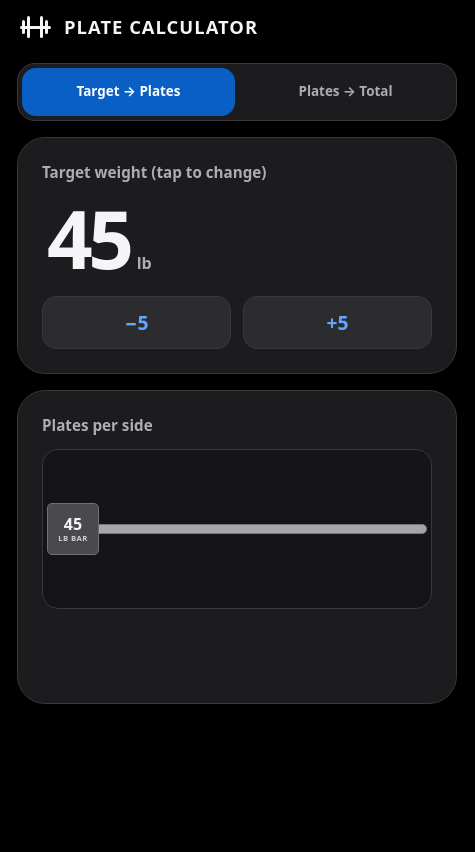
Scenario: Slice 003 application mode integration › S3-AC-009 preserves reverse state through a mode round trip
Click the button with aria-label "Plates → Total Weight" at (346, 92), box [239, 68, 452, 116]
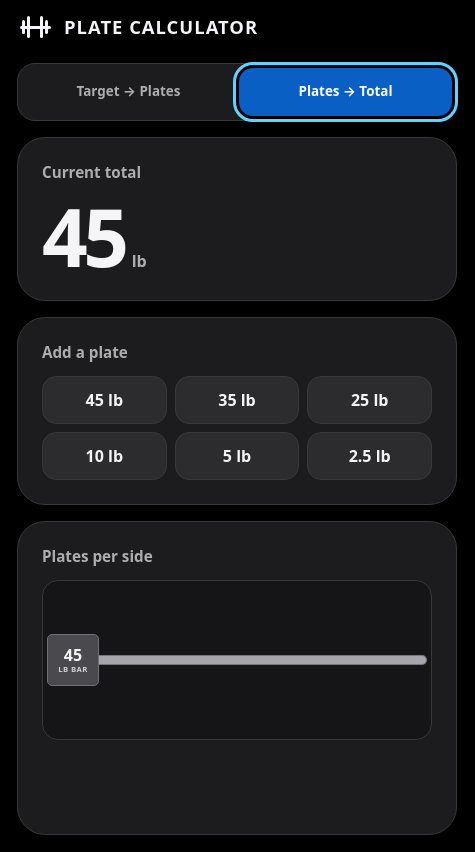
Click the button with aria-label "Add 45 lb plate" at (104, 400), box [42, 376, 167, 424]
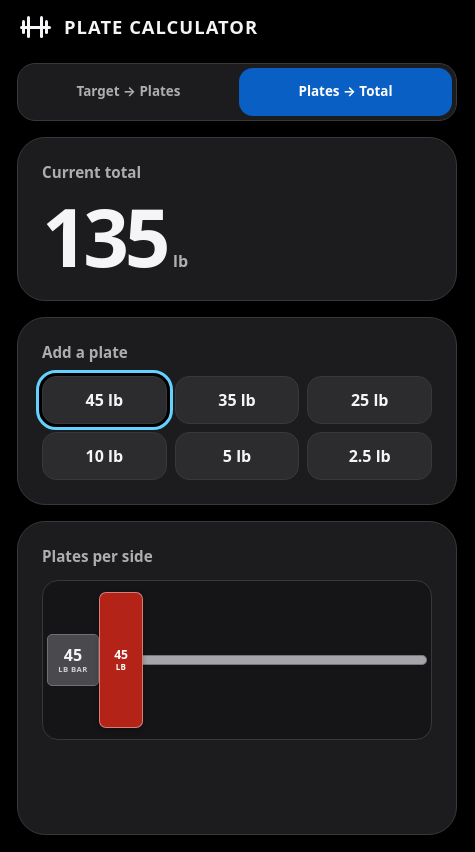
Click the button with aria-label "Add 10 lb plate" at (104, 456), box [42, 432, 167, 480]
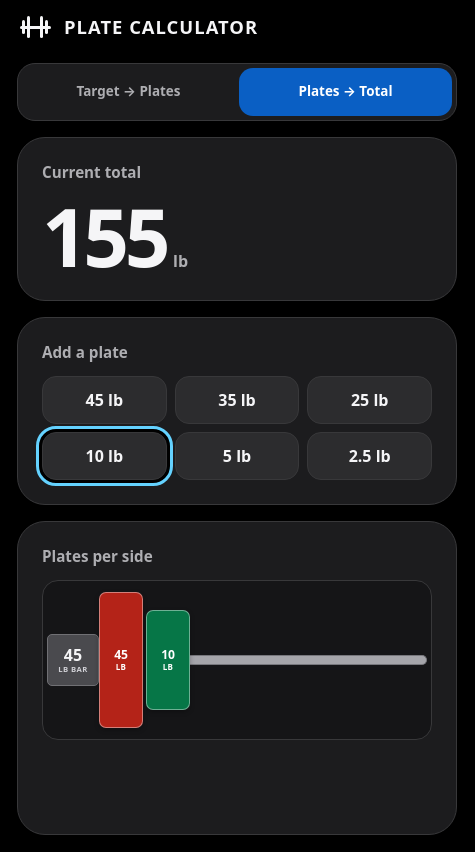
Click the button with aria-label "Target Weight → Plates" at (128, 92), box [22, 68, 235, 116]
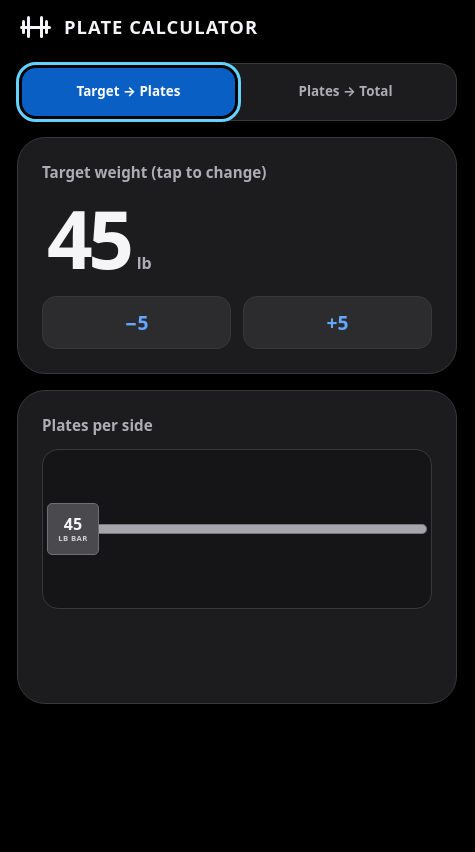
Click the button with aria-label "Plates → Total Weight" at (346, 92), box [239, 68, 452, 116]
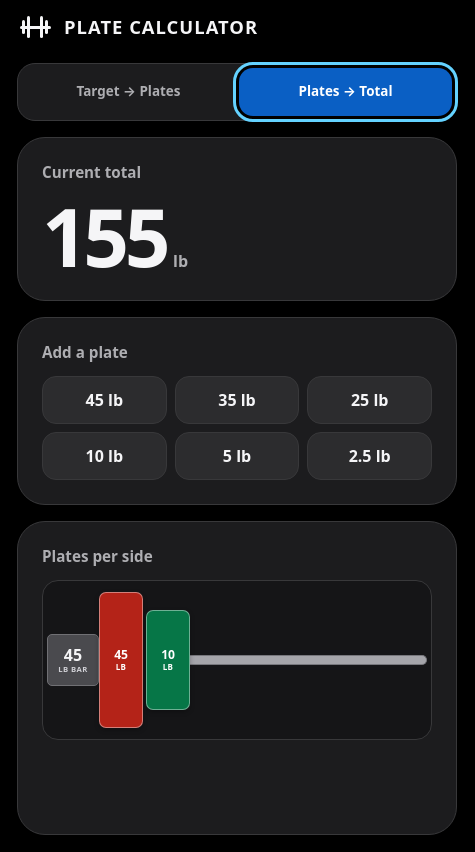
Result: the button with aria-label "Remove 45 lb plate" is shown at [99, 592, 143, 728]
Result: the button with aria-label "Remove 10 lb plate" is shown at [146, 610, 190, 710]
